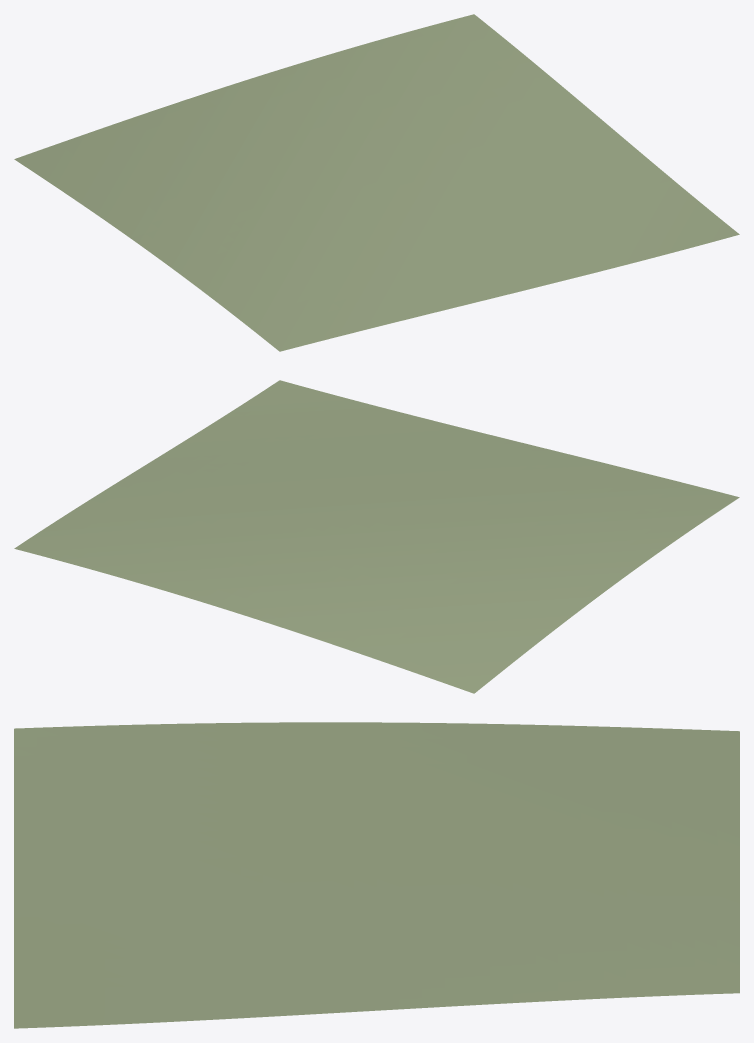
Rendered from alpine-3-14.glb.
3 renders of one model, top to bottom at view 1: azimuth 30°, elevation 25°; view 2: azimuth 150°, elevation 25°; view 3: azimuth 270°, elevation 25°, orthographic. The views are drawn at different scales.
Parts seen in each view (by area): view 1: alpine-3-14; view 2: alpine-3-14; view 3: alpine-3-14.
Part boxes in pixels (box(x1,y1,x2,y2)): alpine-3-14: box(14, 14, 739, 351); alpine-3-14: box(14, 380, 739, 693); alpine-3-14: box(14, 722, 739, 1028).
Bounding box in the file's own units: 256 × 17.42 × 256.
